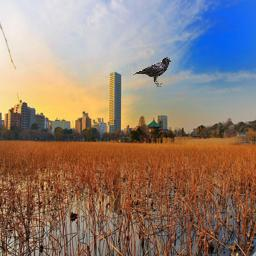Crow: (132, 57, 171, 87)
